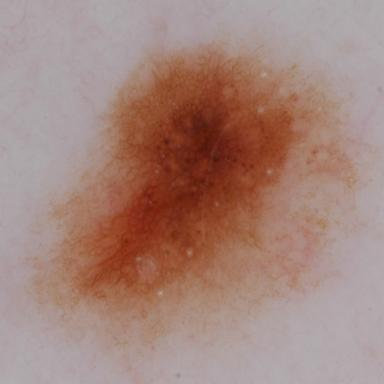nevus: (35, 48, 355, 343)
